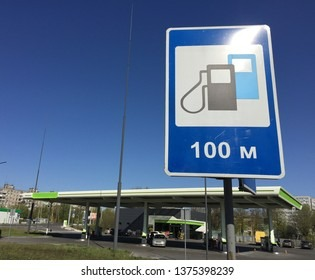fuel-station: (164, 26, 279, 181)
